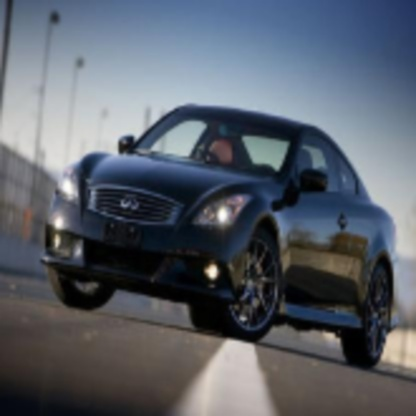Vehicle: (40, 104, 398, 369)
